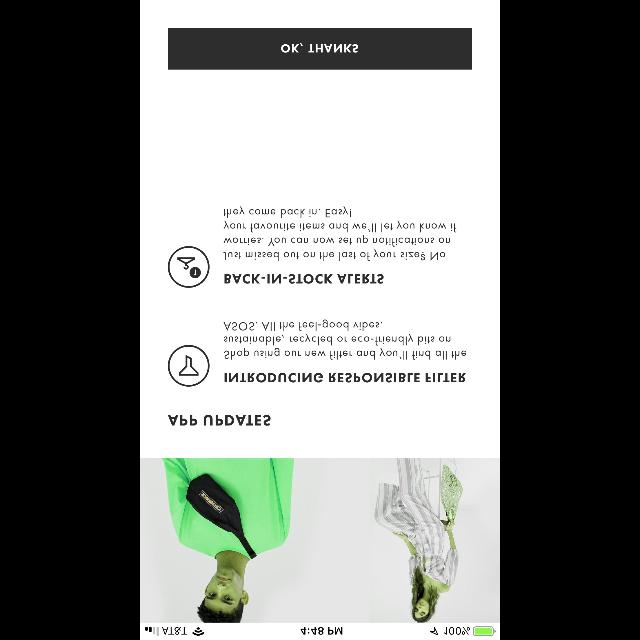icon: (168, 345, 210, 387)
image: (140, 458, 500, 622), (168, 246, 210, 288)
text: (224, 206, 456, 260), (224, 320, 466, 360), (224, 373, 466, 383), (224, 274, 384, 284), (168, 414, 270, 426)
textbutton: (168, 28, 472, 70)
uppertaskbar: (140, 626, 500, 640)
